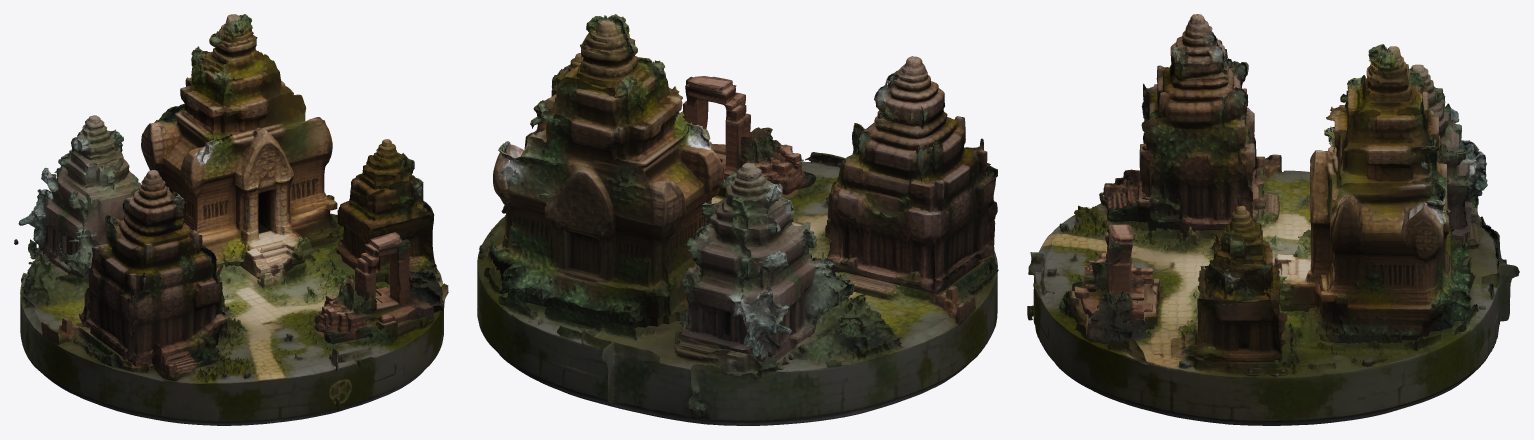
3 renders of one model, left to right at view 1: azimuth 30°, elevation 25°; view 2: azimuth 150°, elevation 25°; view 3: azimuth 270°, elevation 25°, orthographic. The views are drawn at different scales.
Visible parts, largest first — view 1: 0, 1, 2, 3, 4, 5; view 2: 0, 1, 2, 3, 5; view 3: 0, 1, 2, 4, 5, 3.
Part boxes in pixels (x1=…): 0: x1=14, y1=213, x2=448, y2=425; 1: x1=141, y1=14, x2=341, y2=279; 2: x1=79, y1=170, x2=229, y2=376; 3: x1=18, y1=115, x2=140, y2=278; 4: x1=336, y1=139, x2=434, y2=284; 5: x1=314, y1=232, x2=443, y2=343; 0: x1=477, y1=152, x2=998, y2=425; 1: x1=489, y1=14, x2=724, y2=327; 2: x1=825, y1=56, x2=997, y2=294; 3: x1=679, y1=162, x2=854, y2=362; 5: x1=673, y1=76, x2=815, y2=194; 0: x1=1027, y1=154, x2=1519, y2=425; 1: x1=1272, y1=44, x2=1471, y2=343; 2: x1=1103, y1=14, x2=1266, y2=233; 4: x1=1170, y1=205, x2=1287, y2=362; 5: x1=1072, y1=224, x2=1154, y2=343; 3: x1=1408, y1=64, x2=1487, y2=241.
Size of the model in its own units: 0.9409 by 0.6503 by 0.9399.
Materials: 6 (6 with a texture image).
